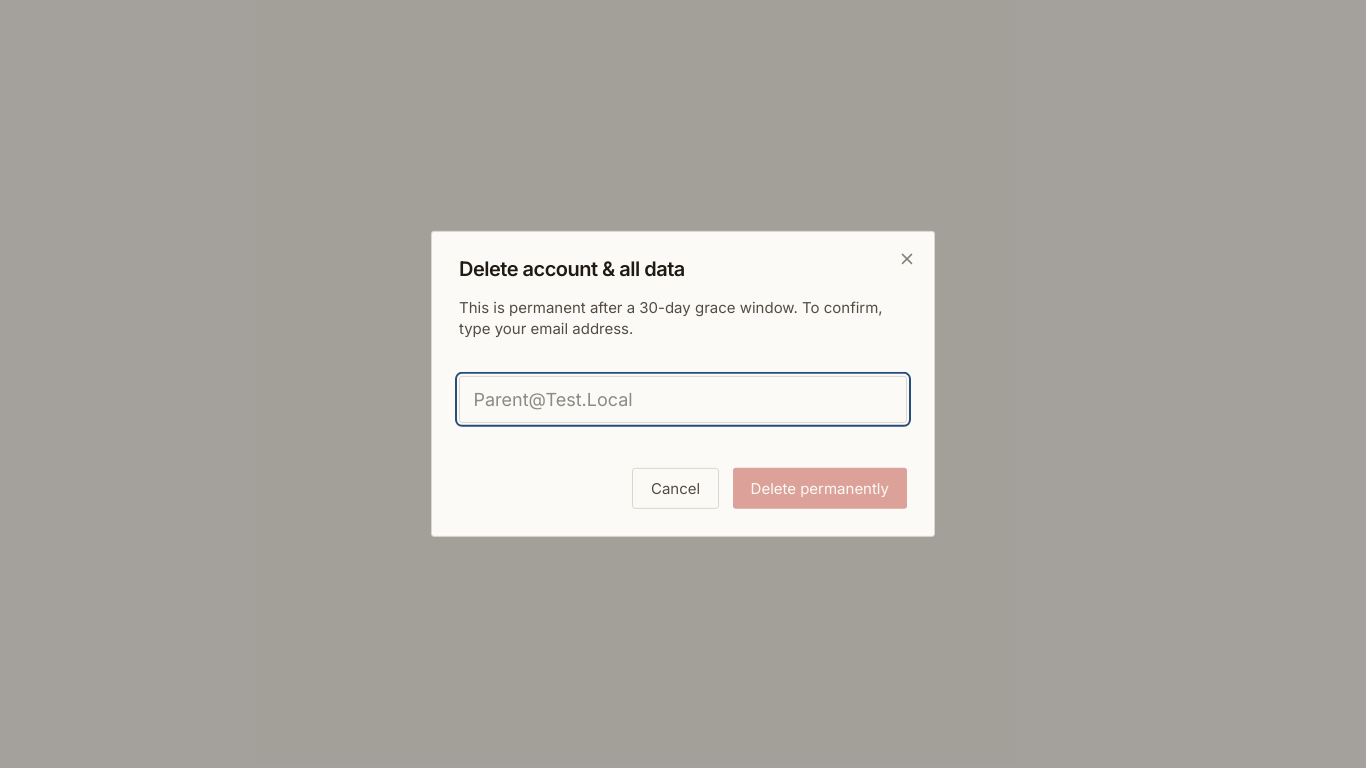
Test: DeleteAccountDialog › enables confirm on exact case-insensitive match
The image size is (1366, 768).
Type "parent@test.local" into the field named "type your email to confirm" at (683, 399), box [459,376,907,423]
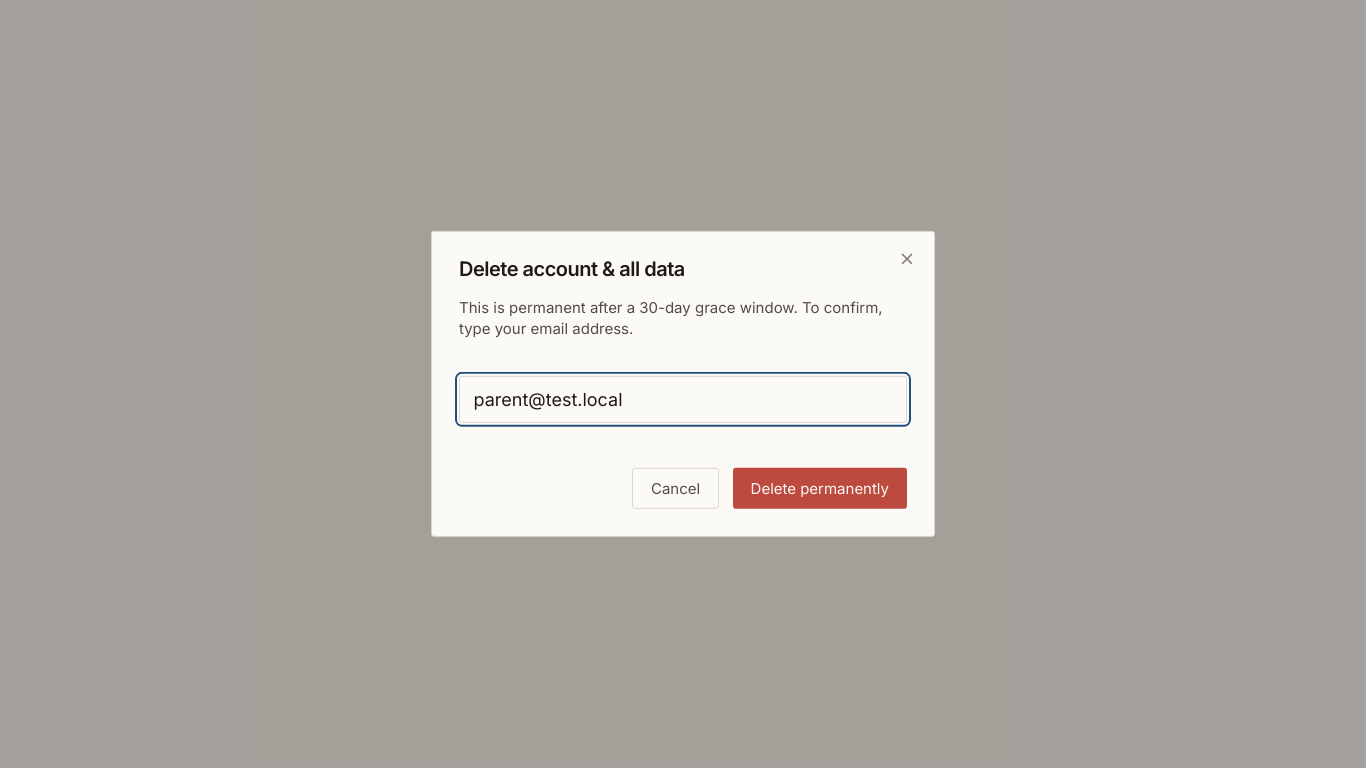
Result: the button "Delete permanently" is enabled at [733,468,907,509]
